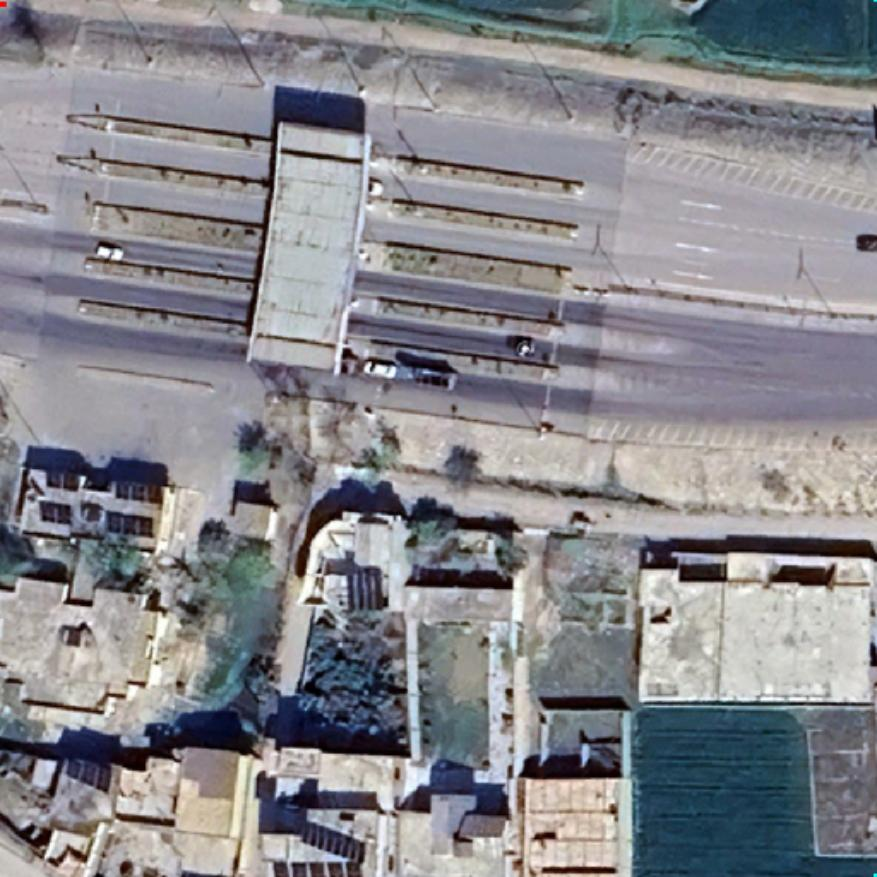Solarpanel: (296, 817, 369, 865), (340, 561, 392, 617), (55, 754, 114, 794), (268, 855, 364, 877), (108, 474, 168, 508), (108, 509, 158, 542), (40, 464, 86, 496), (34, 495, 76, 529)
